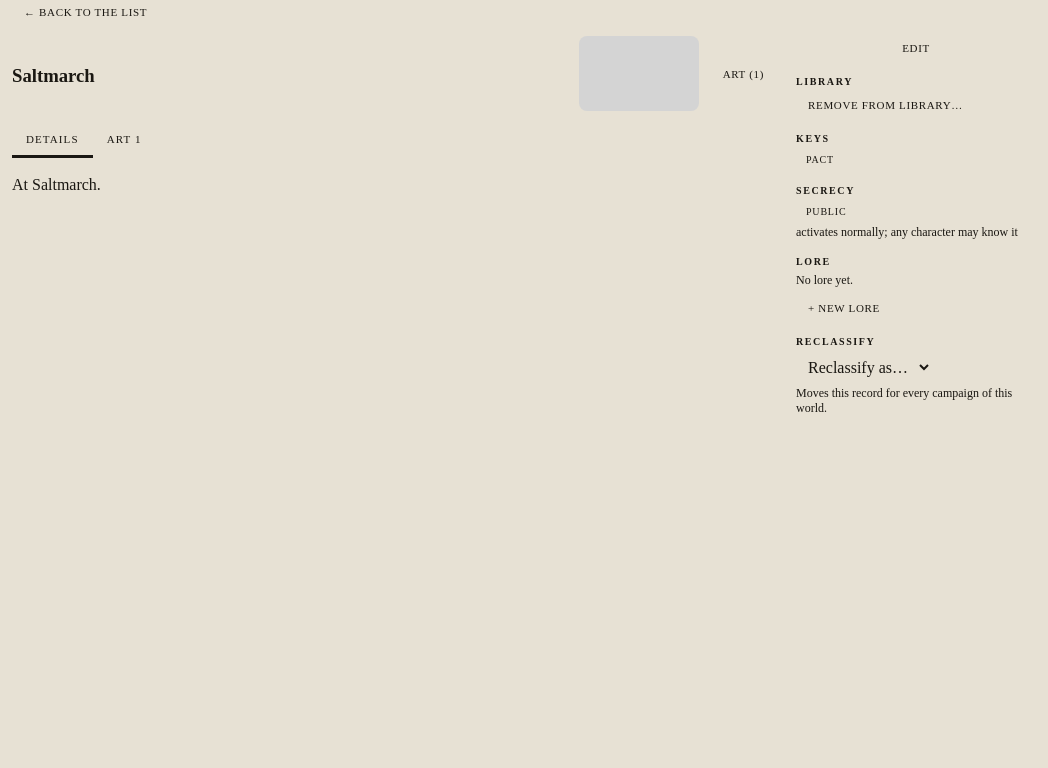
Test: world locations keeps Details and metadata while sharing the Art panel
The width and height of the screenshot is (1048, 768).
Check: the text "At Saltmarch." is shown, box x1=12 y1=176 x2=101 y2=193
Check: the element with class "detail-sidebar" is shown, box x1=796 y1=36 x2=1036 y2=416
Click the tab "Art 1": coordinates (124, 140) x1=93 y1=123 x2=156 y2=158
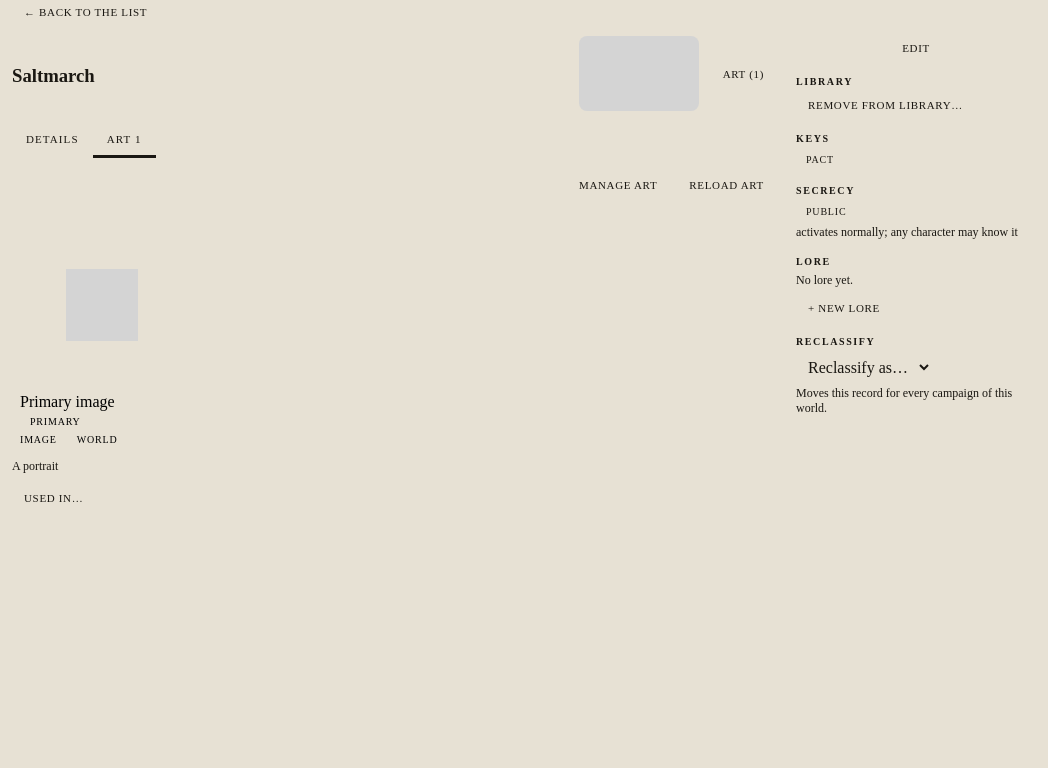
Check: the button "Manage art" is shown, box x1=567 y1=173 x2=669 y2=197
Check: the button with aria-label "View Primary image" is shown, box x1=12 y1=217 x2=191 y2=455
Click the tab "Details": coordinates (52, 140) x1=12 y1=123 x2=93 y2=158
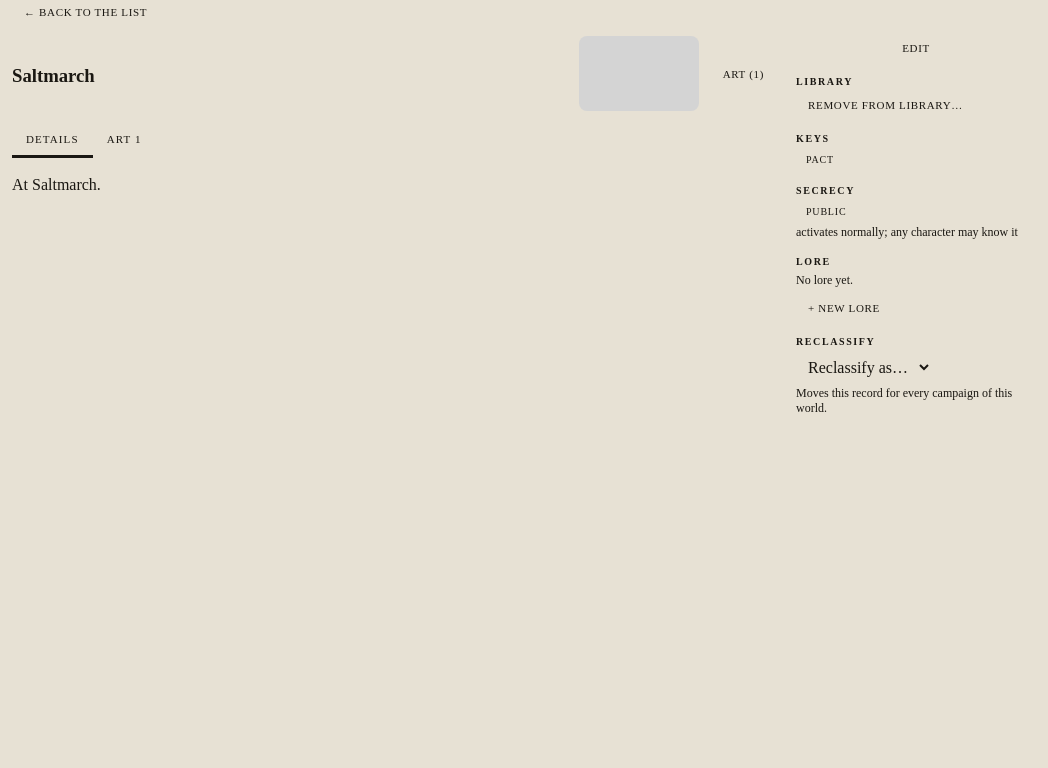
Click the button "Edit": coordinates (916, 48) x1=796 y1=36 x2=1036 y2=60
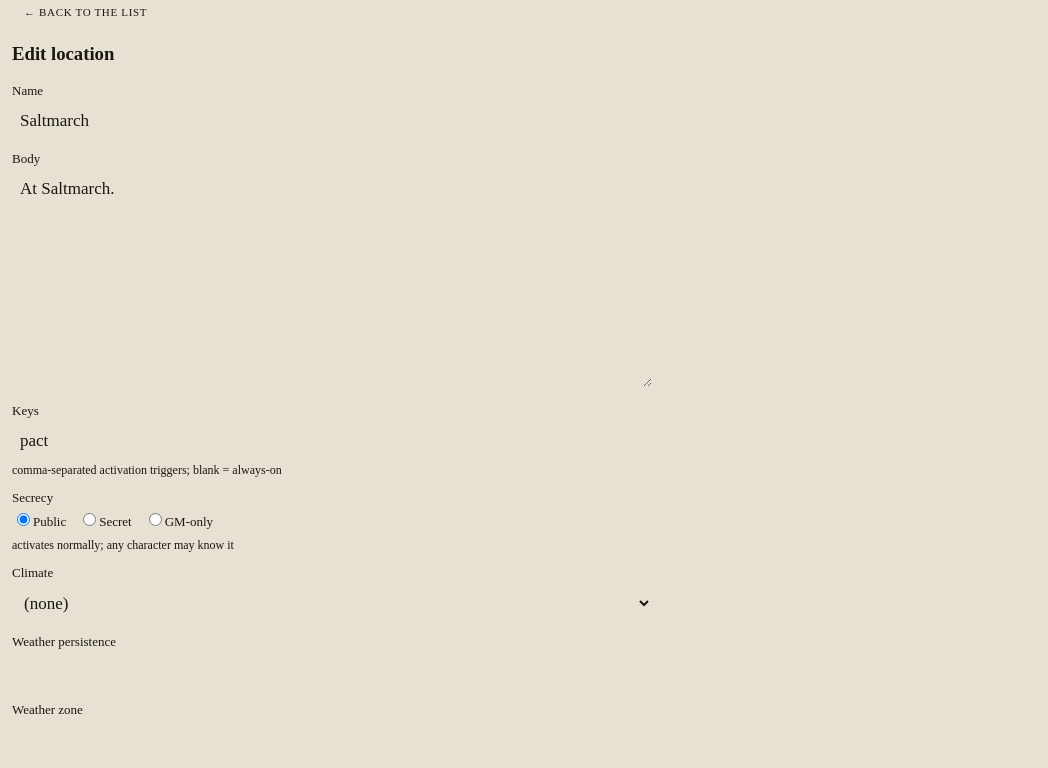
Check: the text box labelled "Body" holds "At Saltmarch.", box x1=12 y1=171 x2=652 y2=387
